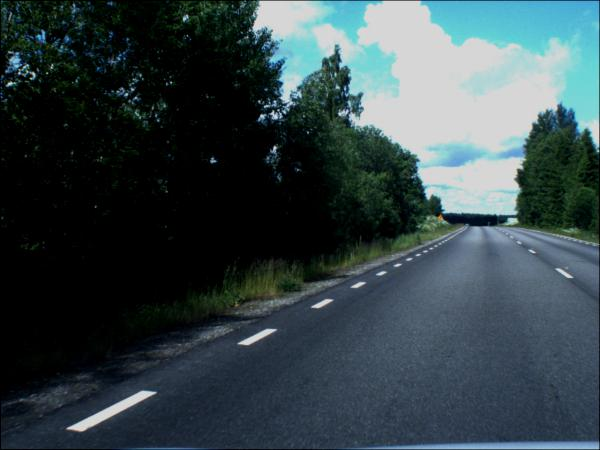WARNING: (437, 215, 445, 221)
